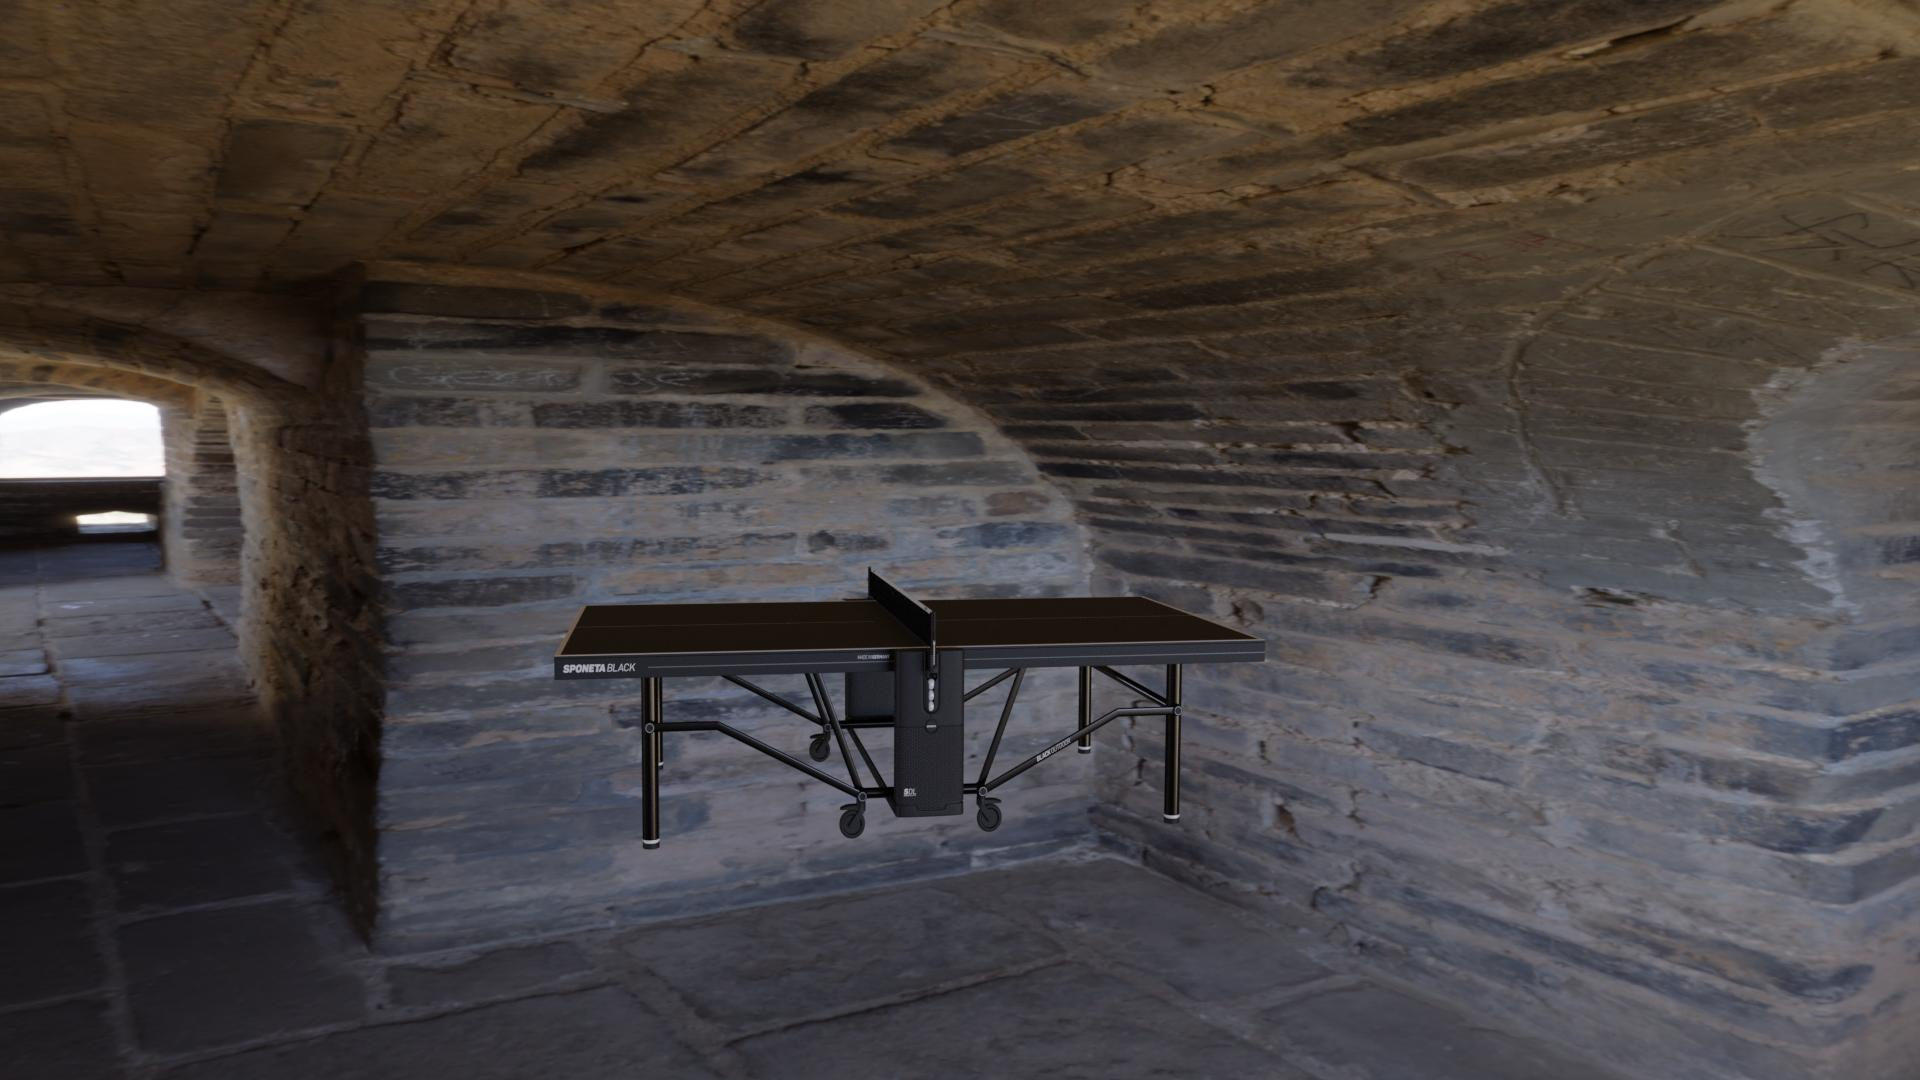table: (560, 596, 1258, 655)
